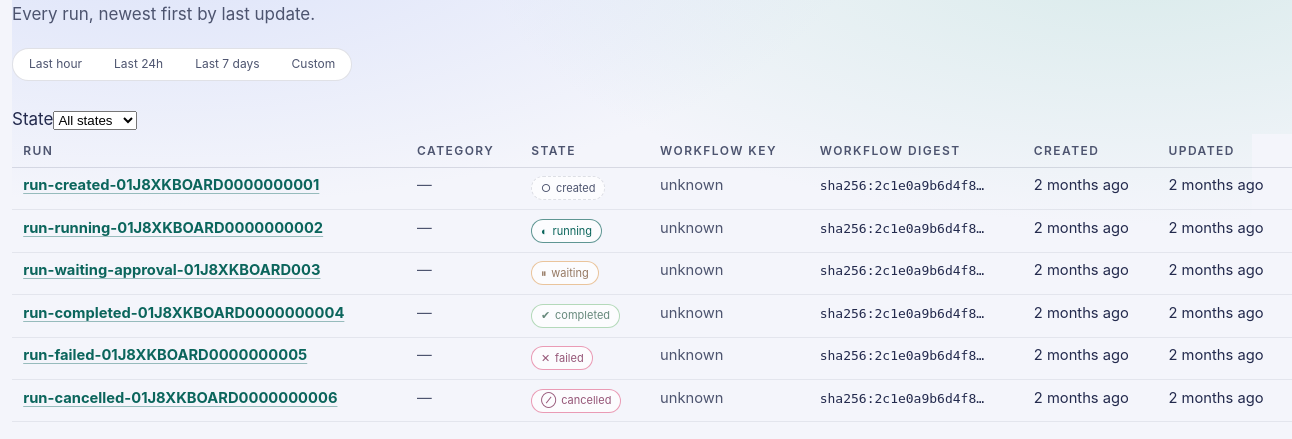
it: RunsList time-range filter (server-side, issue #23) › returns to the loading state on a range change instead of showing the previous range's rows
Click the button "Last hour". click: (56, 64)
box: left=13, top=49, right=98, bottom=80
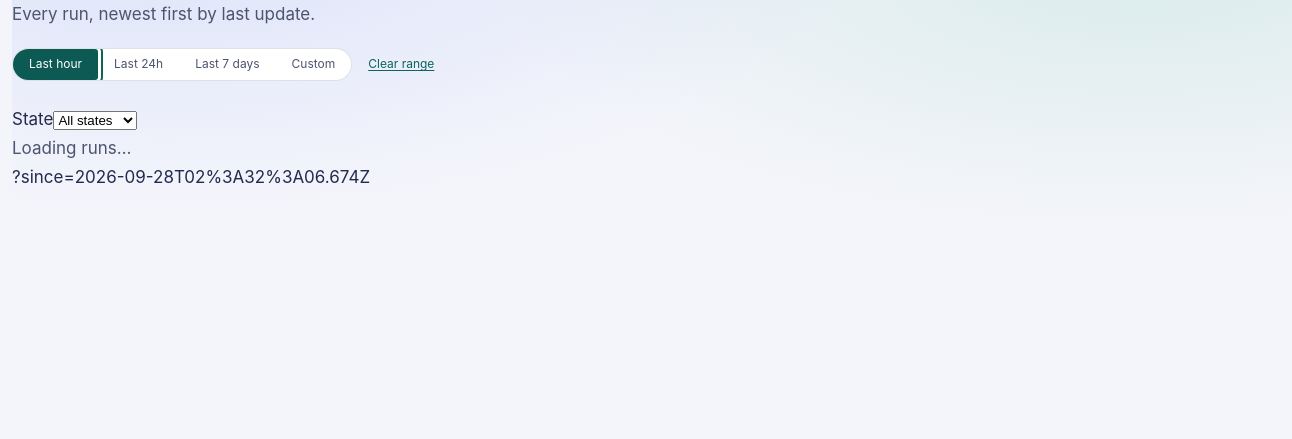
Check: the table is gone
Check: the text "Loading runs…" is shown, box left=12, top=138, right=132, bottom=158
